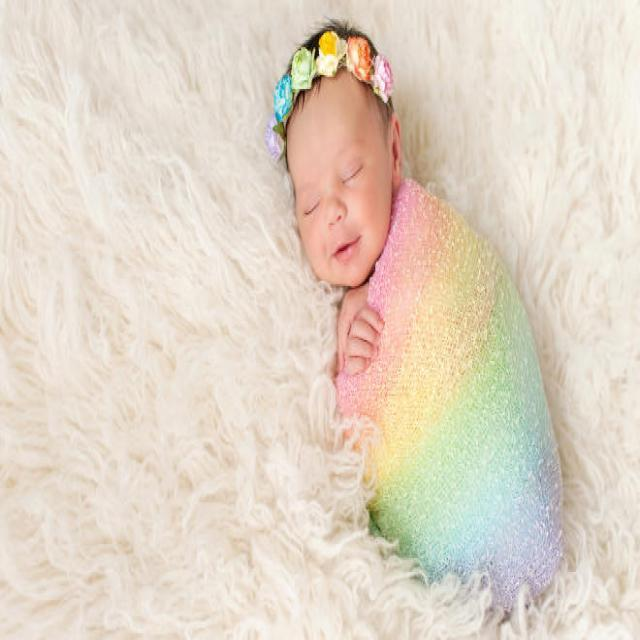non-dog: (263, 19, 567, 616)
